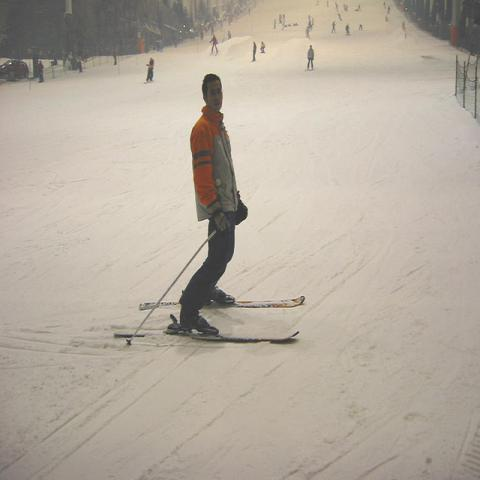car: (0, 60, 29, 81)
